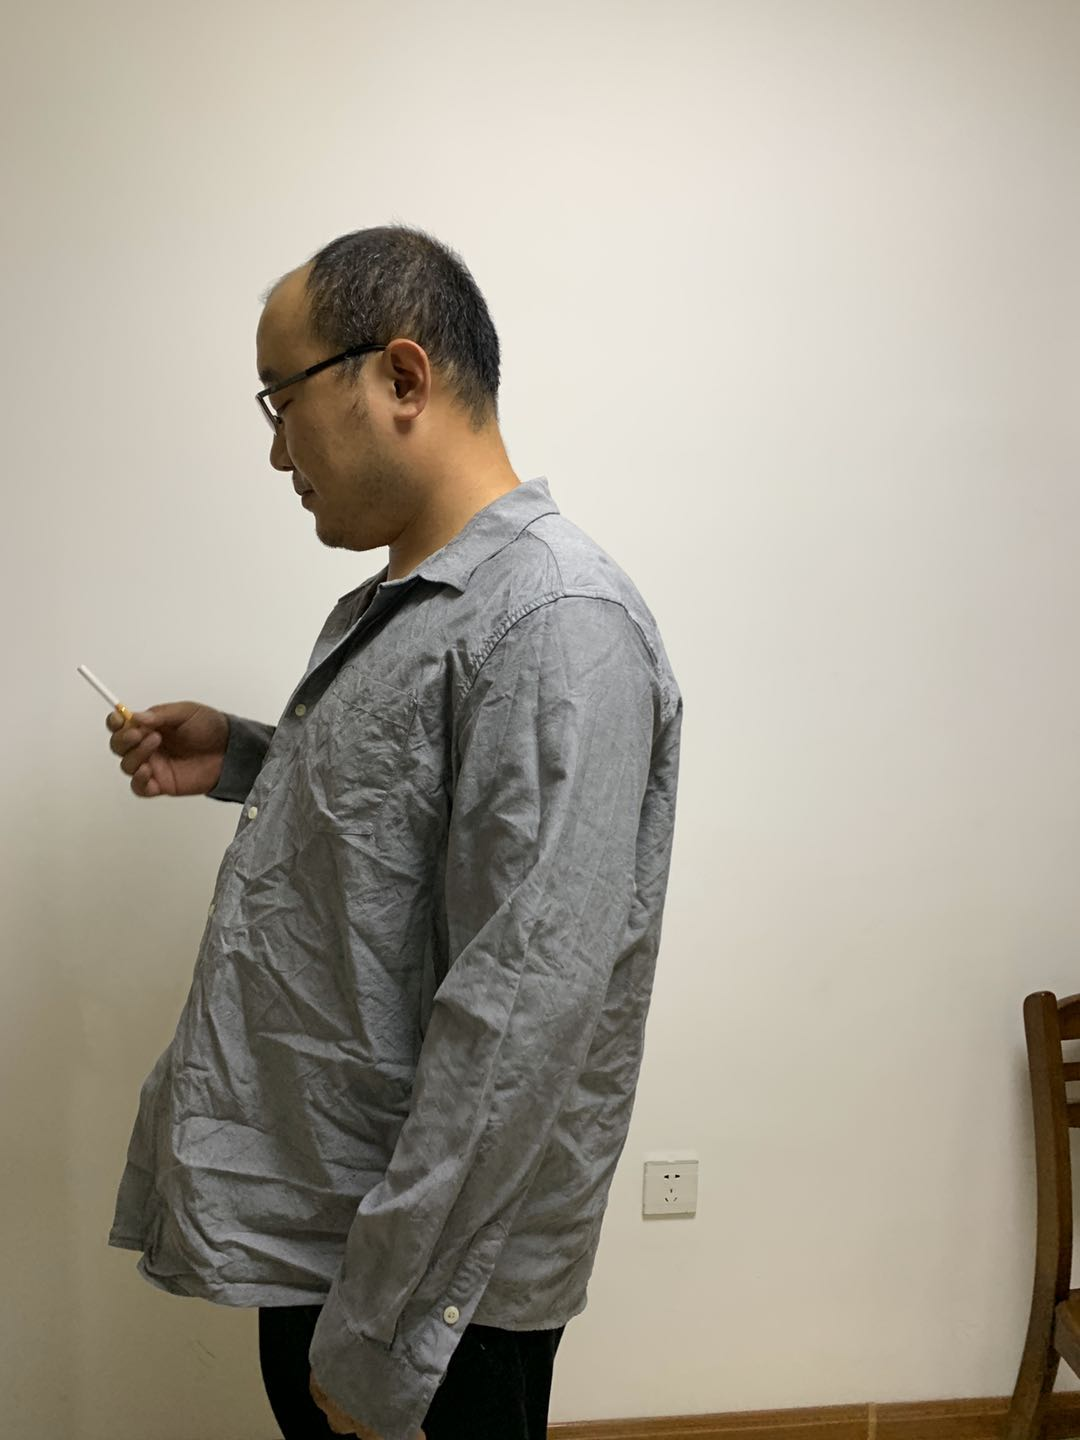smoke: (76, 663, 135, 732)
